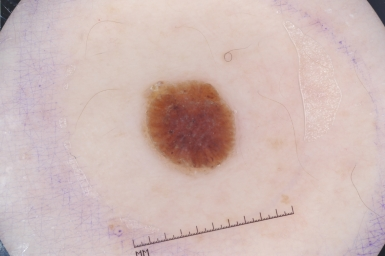seborrheic keratosis: (138, 69, 245, 185)
